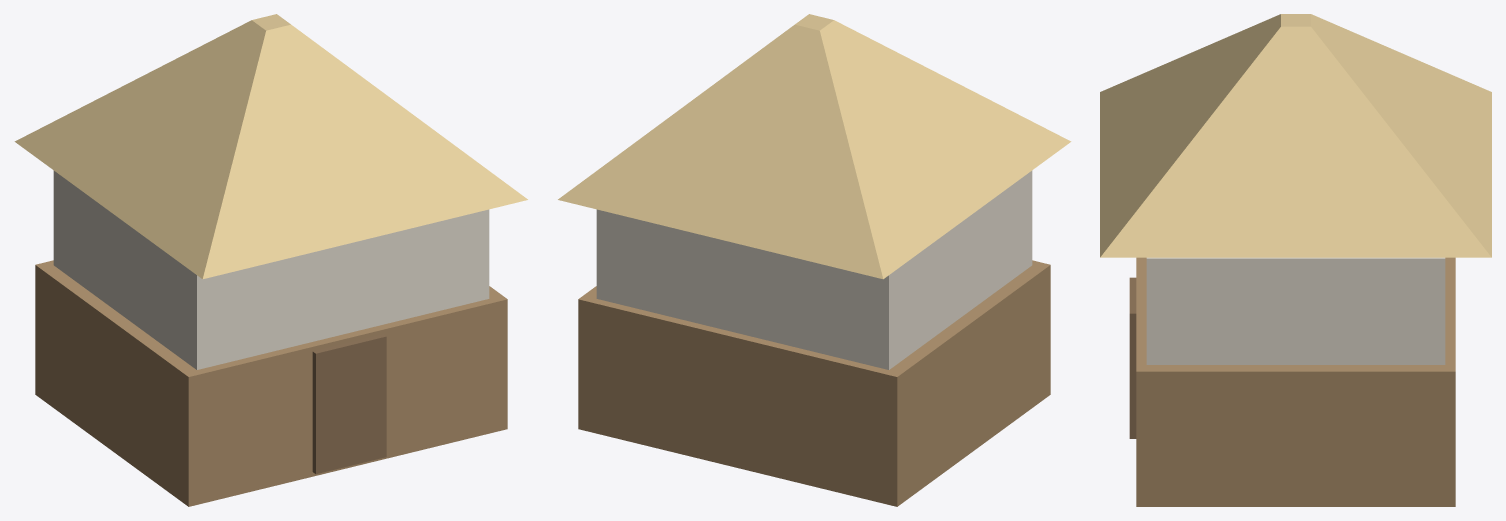
File: Barracks.fbx
3 renders of one model, left to right at view 1: azimuth 30°, elevation 25°; view 2: azimuth 150°, elevation 25°; view 3: azimuth 270°, elevation 25°, orthographic. The views are drawn at different scales.
Parts seen in each view (by area): view 1: Roof.001, Base.001, Upper.001, Door.001; view 2: Roof.001, Base.001, Upper.001; view 3: Roof.001, Base.001, Upper.001, Door.001.
Boxes of the visible parts, x1,y1,x2,y2 form: Roof.001: [14, 14, 527, 279]; Base.001: [35, 260, 507, 506]; Upper.001: [53, 170, 489, 369]; Door.001: [312, 334, 386, 474]; Roof.001: [558, 14, 1071, 279]; Base.001: [578, 260, 1050, 506]; Upper.001: [596, 170, 1032, 369]; Roof.001: [1100, 14, 1491, 257]; Base.001: [1136, 257, 1455, 506]; Upper.001: [1146, 257, 1445, 364]; Door.001: [1129, 277, 1136, 438].
Bounding box in the file's own units: 368 × 420 × 368.
